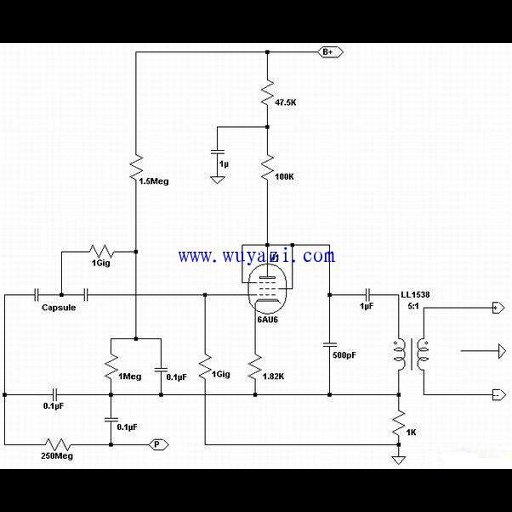capacitor: (27, 285, 45, 304), (316, 336, 340, 350), (360, 285, 378, 303), (47, 384, 62, 403), (79, 286, 94, 303), (207, 145, 229, 156), (99, 413, 120, 423), (152, 363, 169, 375)
secondresistance: (124, 145, 143, 189), (255, 73, 274, 111), (255, 151, 275, 187), (39, 432, 74, 452), (99, 351, 120, 384), (195, 347, 212, 386), (245, 349, 262, 386), (81, 243, 120, 259), (390, 403, 406, 439)
